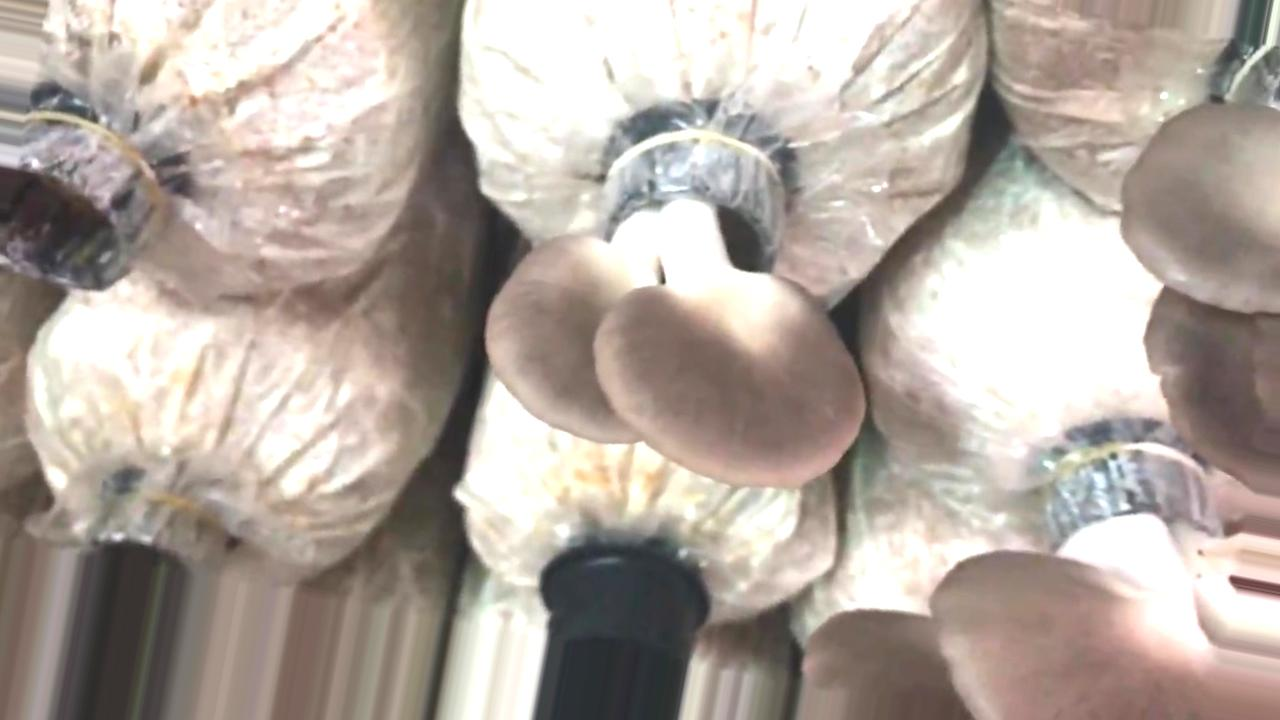nam: (498, 106, 866, 484), (807, 442, 1280, 718), (1130, 105, 1280, 494)
